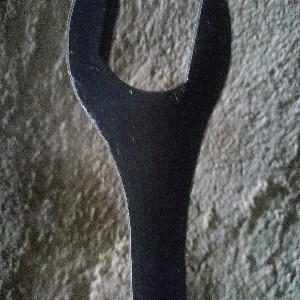spanner: (65, 1, 233, 300)
